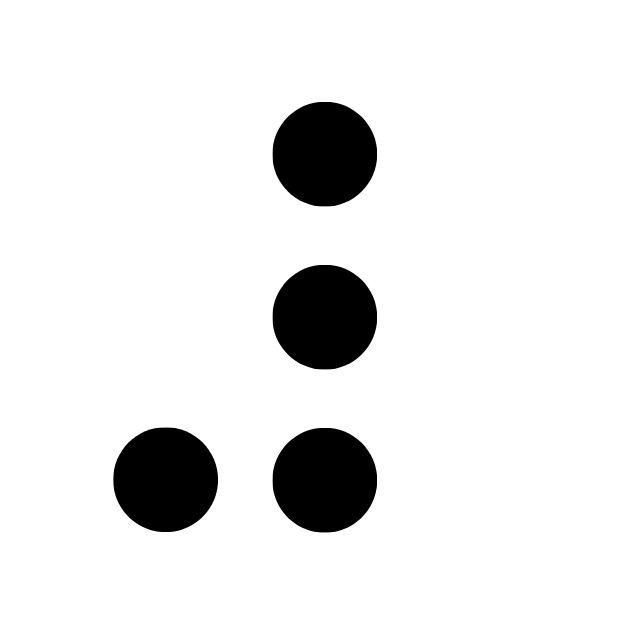at: (112, 100, 376, 534)
